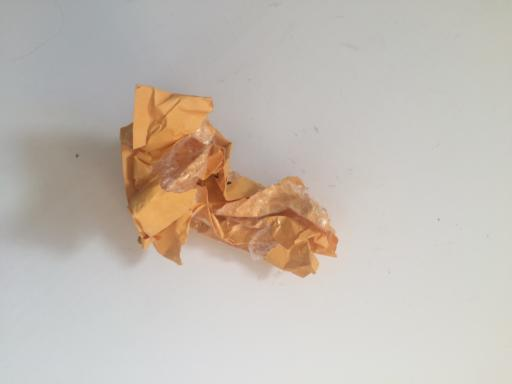trash: (119, 83, 340, 282)
